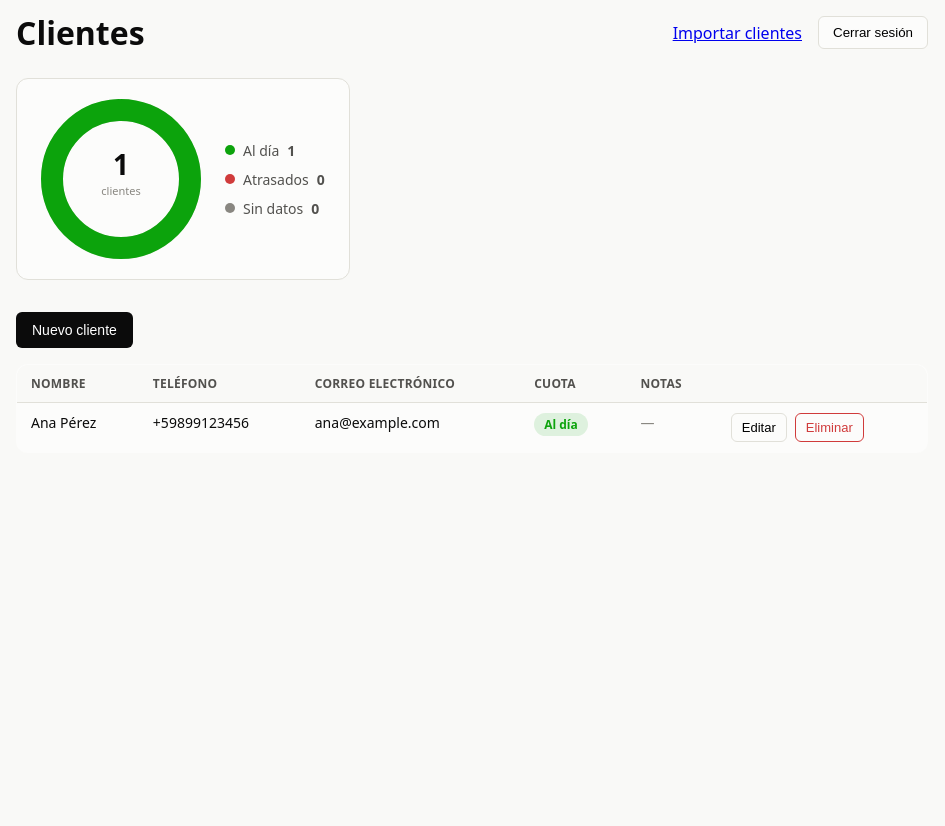
Test case: ClientesPage › agregar un cliente nuevo manda el POST correcto y lo agrega a la tabla
expect the text "Ana Pérez" is shown: met, box x1=16 y1=402 x2=139 y2=452
Click the button "Nuevo cliente".
click(74, 330)  # box x1=16 y1=312 x2=133 y2=348
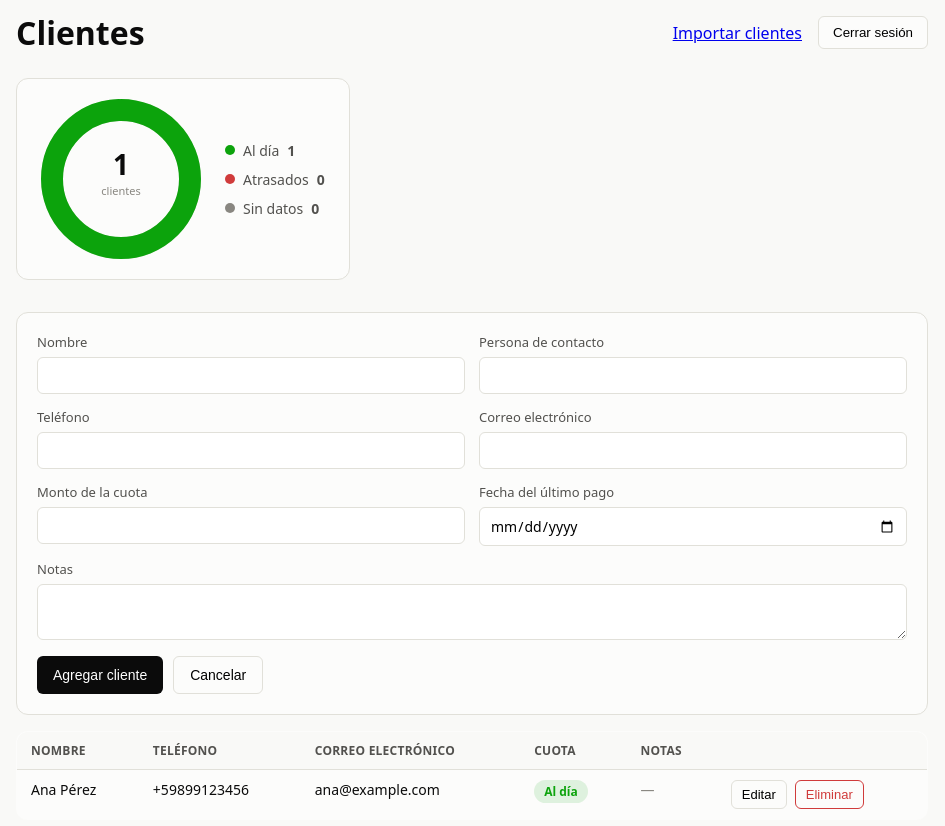
Type "Beto Gómez" into the field labelled "Nombre".
click(251, 376); type("Beto Gómez")  # box x1=37 y1=357 x2=465 y2=394
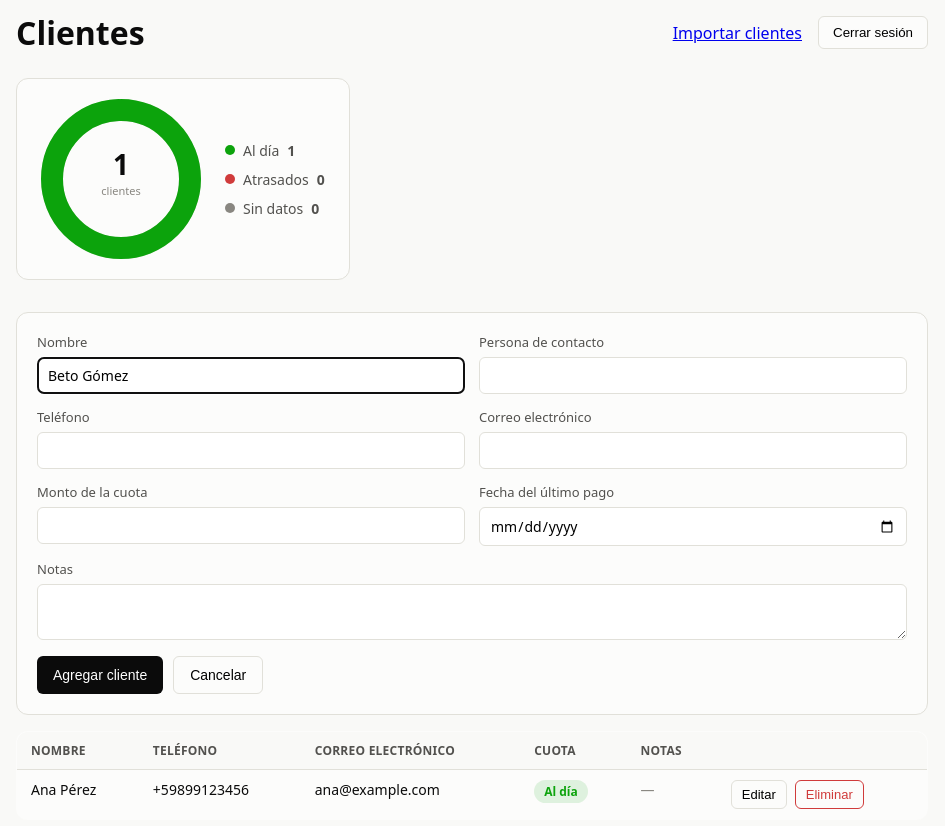
Click the button "Agregar cliente".
click(100, 675)  # box x1=37 y1=656 x2=163 y2=694
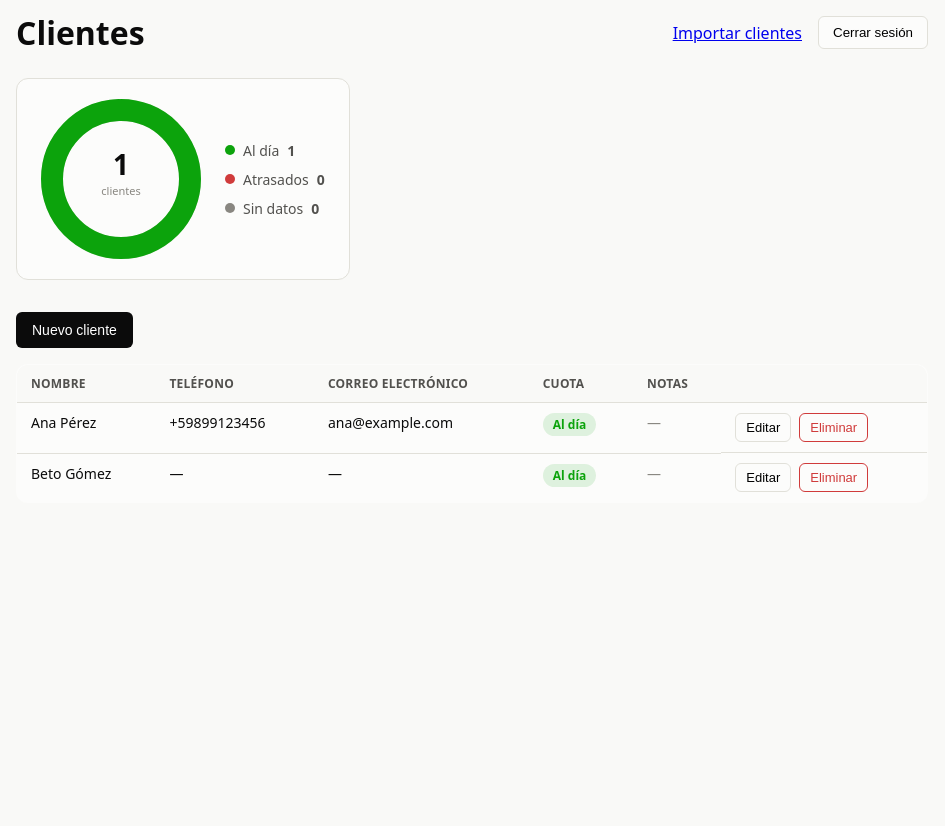
expect the cell "Beto Gómez" is shown: met, box x1=16 y1=453 x2=155 y2=502
